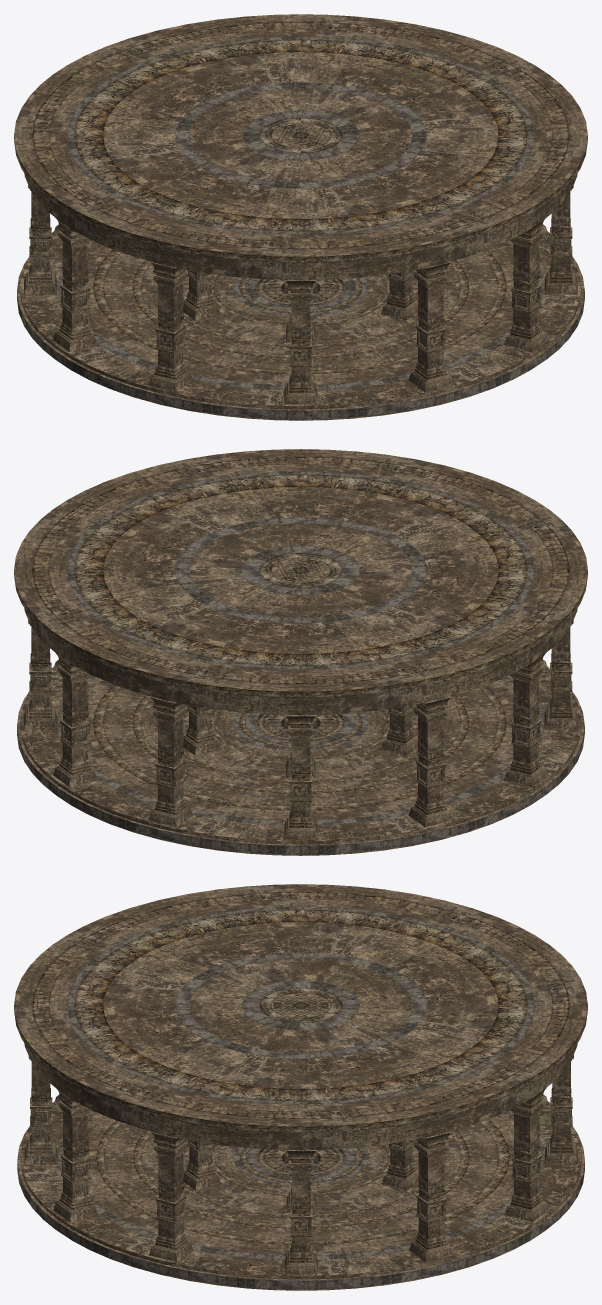
Rendered from materials_5_building_31.fbx.
The picture shows the model from 3 angles, top to bottom: view 1: azimuth 30°, elevation 25°; view 2: azimuth 150°, elevation 25°; view 3: azimuth 270°, elevation 25°; orthographic projection.
Visible parts, largest first — view 1: materials_5_building_31; view 2: materials_5_building_31; view 3: materials_5_building_31.
Part boxes in pixels (box(x1,y1,x2,y2)): materials_5_building_31: box(14, 14, 587, 420); materials_5_building_31: box(14, 449, 587, 855); materials_5_building_31: box(14, 884, 587, 1290).
Bounding box in the file's own units: 1391 × 446 × 1391.
